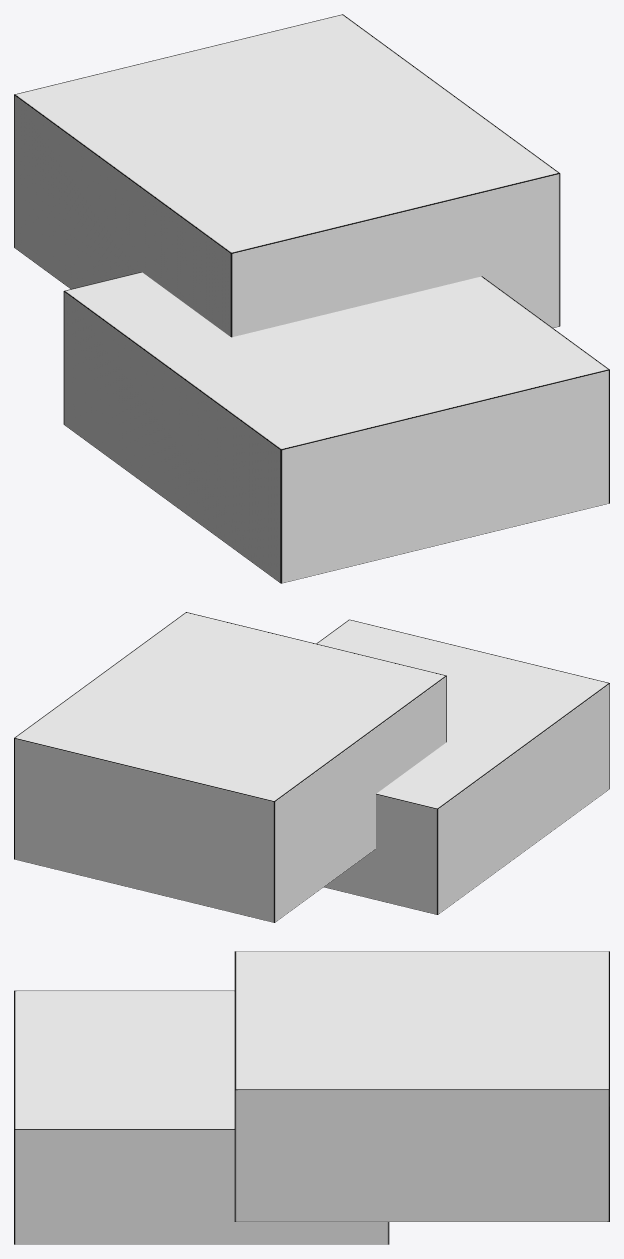
The model's file is Cloud.obj.
The picture shows the model from 3 angles, top to bottom: view 1: azimuth 30°, elevation 25°; view 2: azimuth 150°, elevation 25°; view 3: azimuth 270°, elevation 25°; orthographic projection. The views are drawn at different scales.
Parts seen in each view (by area): view 1: Cube.001; view 2: Cube.001; view 3: Cube.001.
Boxes of the visible parts, left/top/right/bottom form: Cube.001: left=14, top=14, right=609, bottom=583; Cube.001: left=14, top=612, right=609, bottom=922; Cube.001: left=14, top=951, right=609, bottom=1244.
Bounding box in the file's own units: 1.1 × 0.5619 × 1.62.
